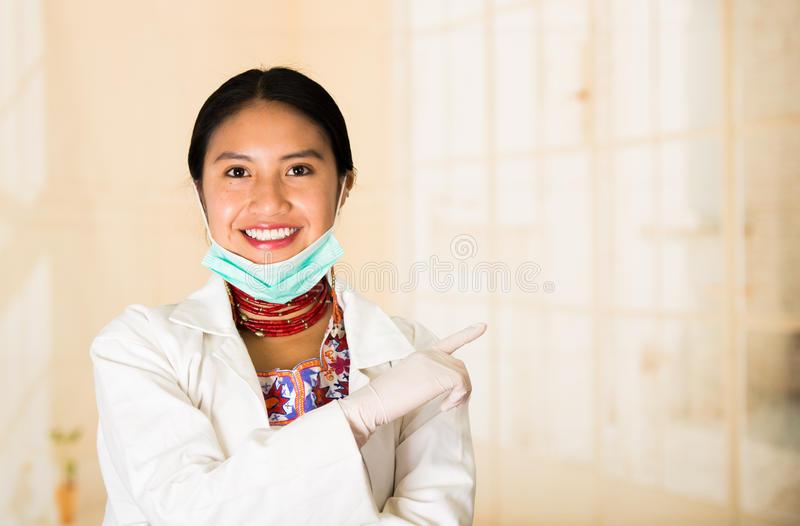Wore Mask Incorrectly: (183, 77, 358, 317)
